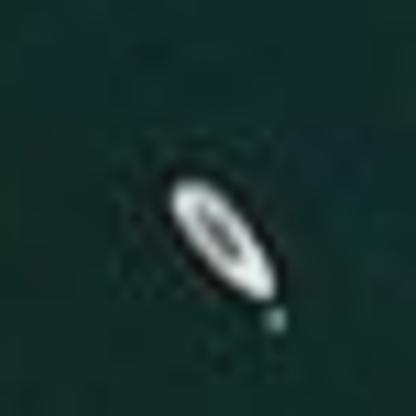ship: (149, 163, 297, 339)
